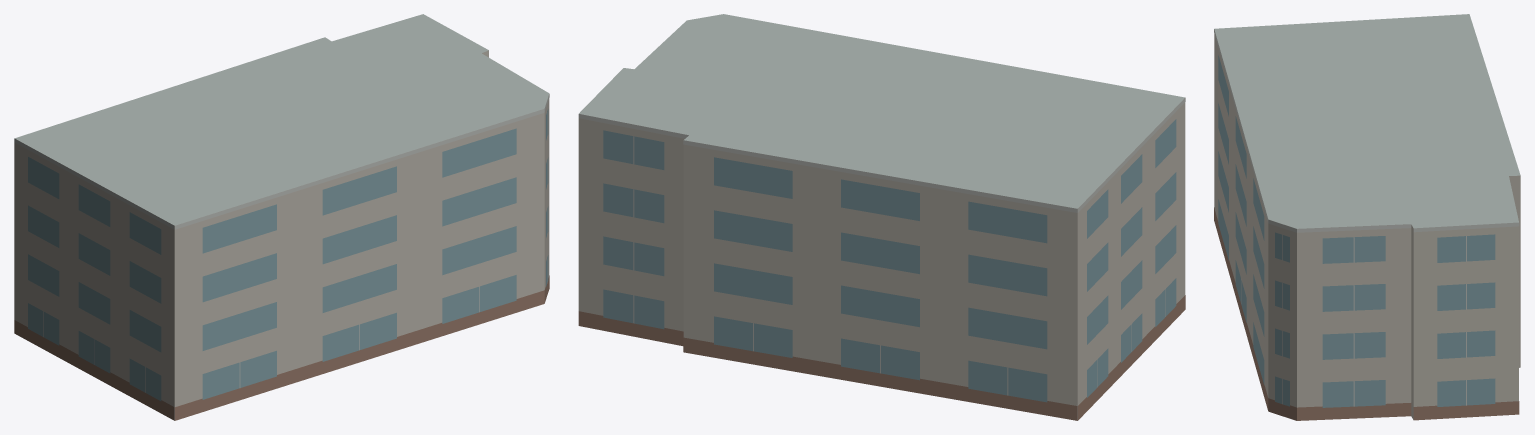
The model's file is survey-upis-32872950.glb.
3 renders of one model, left to right at view 1: azimuth 30°, elevation 25°; view 2: azimuth 150°, elevation 25°; view 3: azimuth 270°, elevation 25°, orthographic. The views are drawn at different scales.
Parts seen in each view (by area): view 1: survey-upis-32872950.tmp; view 2: survey-upis-32872950.tmp; view 3: survey-upis-32872950.tmp.
Boxes of the visible parts, x1,y1,x2,y2 form: survey-upis-32872950.tmp: (14, 14, 549, 420); survey-upis-32872950.tmp: (578, 14, 1185, 420); survey-upis-32872950.tmp: (1214, 14, 1520, 420).
Bounding box in the file's own units: 28.56 × 11.9 × 17.22.
